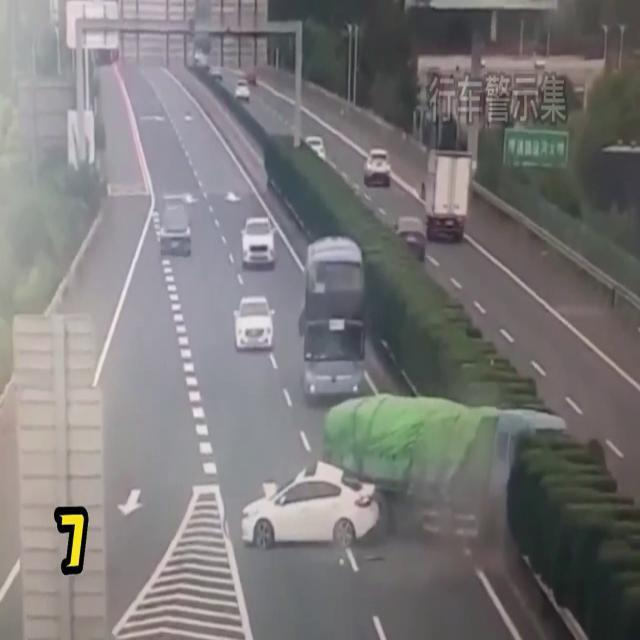accident: (238, 394, 572, 566)
non-accident: (234, 239, 366, 399), (394, 149, 474, 267), (234, 220, 276, 352)
